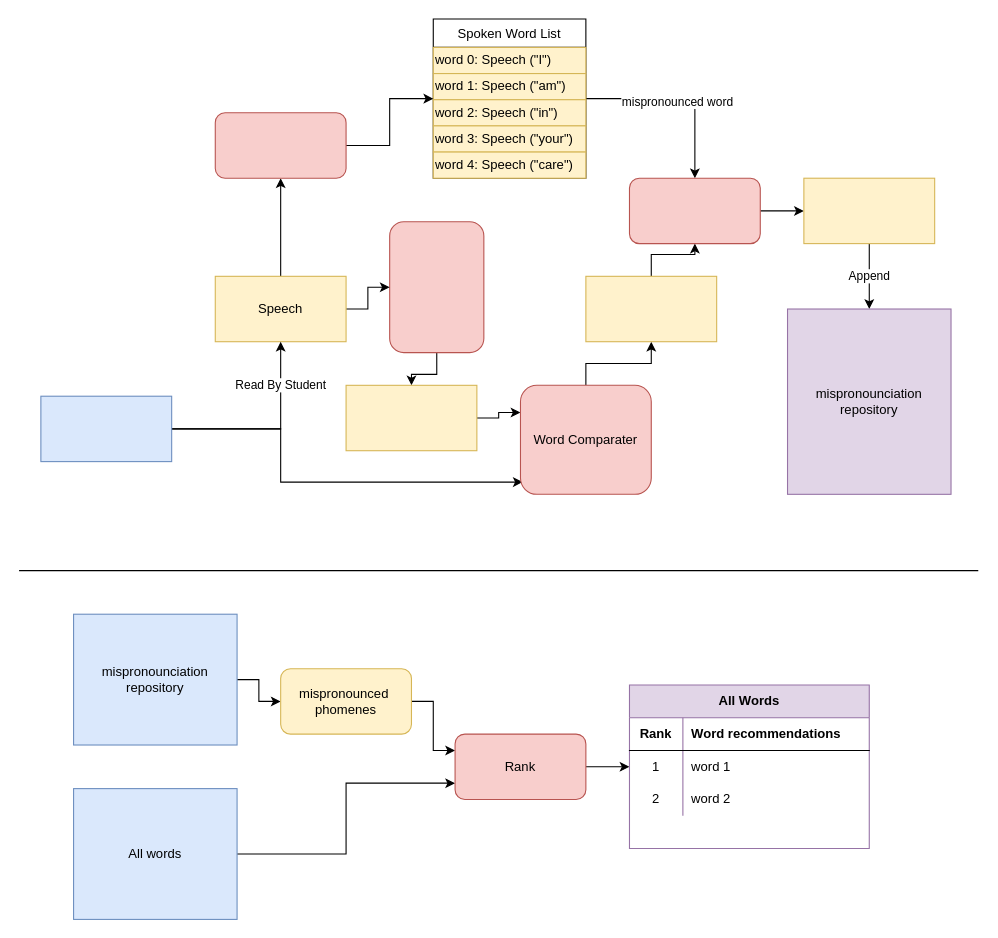
This 998x938 diagram has some shape labels left out. Each missing label, with the centre of its shape:
Automatic Speech Recognition: pixel 436 287
Get Allophones: pixel 694 210
Predicted Text Example: "I am in your car": pixel 411 417
Pronunciation record "Care": K EH R => word 4: K AA R: pixel 869 210
Speech based word splitter: pixel 280 145
True Text Example: "I am in your care": pixel 106 428
Unmatched Word "Care" : "Car": pixel 651 308
